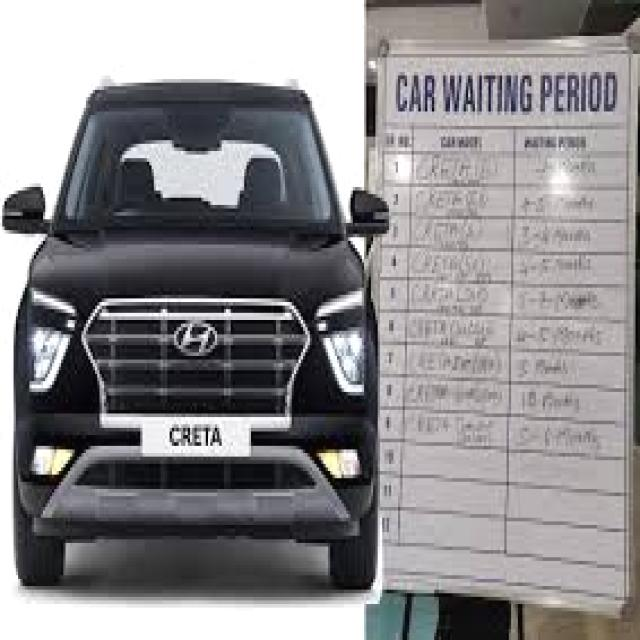SUV: (2, 63, 386, 605)
